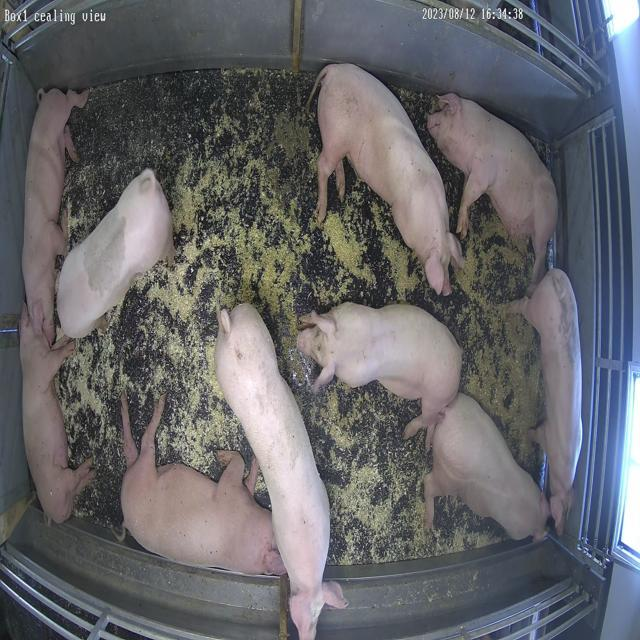Dirt: (444, 197, 543, 470), (247, 71, 321, 228), (226, 197, 306, 334), (323, 213, 377, 284), (383, 230, 420, 302), (372, 205, 380, 224)
Pig: (216, 304, 346, 640), (318, 64, 462, 294), (121, 395, 286, 576), (428, 93, 559, 288), (298, 303, 463, 440), (57, 169, 173, 338), (515, 268, 584, 534), (425, 394, 550, 540), (22, 88, 88, 344), (19, 308, 94, 524)
